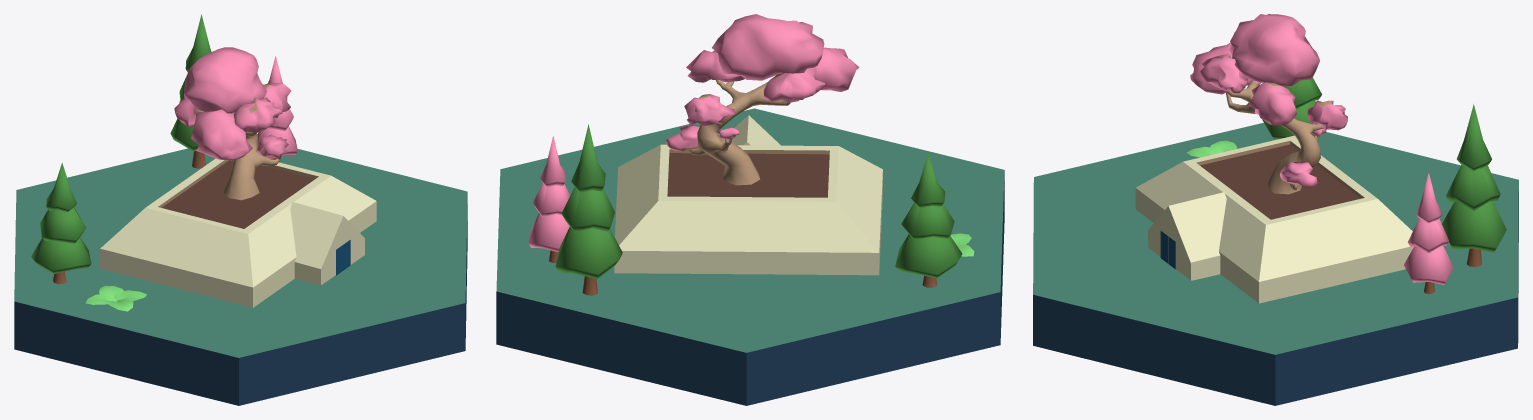
Rendered from Macro - Townhall lvl 456 Soil Land rev.fbx.
The picture shows the model from 3 angles, left to right: view 1: azimuth 30°, elevation 25°; view 2: azimuth 150°, elevation 25°; view 3: azimuth 270°, elevation 25°; orthographic projection. The views are drawn at different scales.
Parts seen in each view (by area): view 1: Cylinder.051, Bonsai.003, Cube.001, Tree_Spruce_tiny_01.003, Tree_Spruce_tiny_01.002, Tree_Spruce_tiny_01.001, Plane.001; view 2: Cylinder.051, Bonsai.003, Tree_Spruce_tiny_01.002, Tree_Spruce_tiny_01.003, Tree_Spruce_tiny_01.001, Cube.001; view 3: Cylinder.051, Bonsai.003, Tree_Spruce_tiny_01.002, Cube.001, Tree_Spruce_tiny_01.001, Tree_Spruce_tiny_01.003, Plane.001.
Part boxes in pixels (<box>): Cylinder.051: <box>14,148,467,405</box>; Bonsai.003: <box>100,47,376,307</box>; Cube.001: <box>290,202,364,285</box>; Tree_Spruce_tiny_01.003: <box>31,162,91,284</box>; Tree_Spruce_tiny_01.002: <box>170,14,211,168</box>; Tree_Spruce_tiny_01.001: <box>257,56,297,159</box>; Plane.001: <box>86,285,146,311</box>; Cylinder.051: <box>496,108,1004,405</box>; Bonsai.003: <box>614,14,882,275</box>; Tree_Spruce_tiny_01.002: <box>555,124,622,295</box>; Tree_Spruce_tiny_01.003: <box>895,152,962,287</box>; Tree_Spruce_tiny_01.001: <box>528,136,570,262</box>; Cube.001: <box>727,115,780,145</box>; Cylinder.051: <box>1033,122,1518,405</box>; Bonsai.003: <box>1135,14,1413,303</box>; Tree_Spruce_tiny_01.002: <box>1442,104,1506,266</box>; Cube.001: <box>1148,192,1226,280</box>; Tree_Spruce_tiny_01.001: <box>1404,173,1453,293</box>; Tree_Spruce_tiny_01.003: <box>1262,77,1321,139</box>; Plane.001: <box>1186,140,1237,157</box>.
Size of the model in its own units: 197 by 102 by 172.
